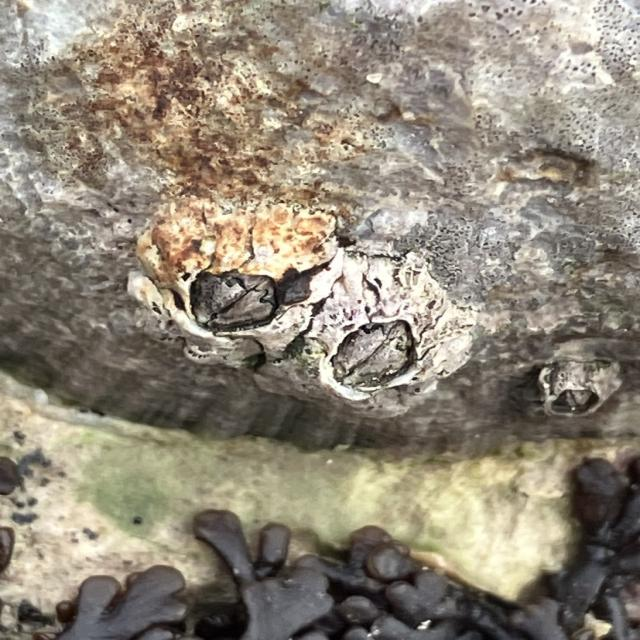barnacles: (136, 183, 328, 367), (284, 257, 471, 429), (521, 341, 613, 434)
